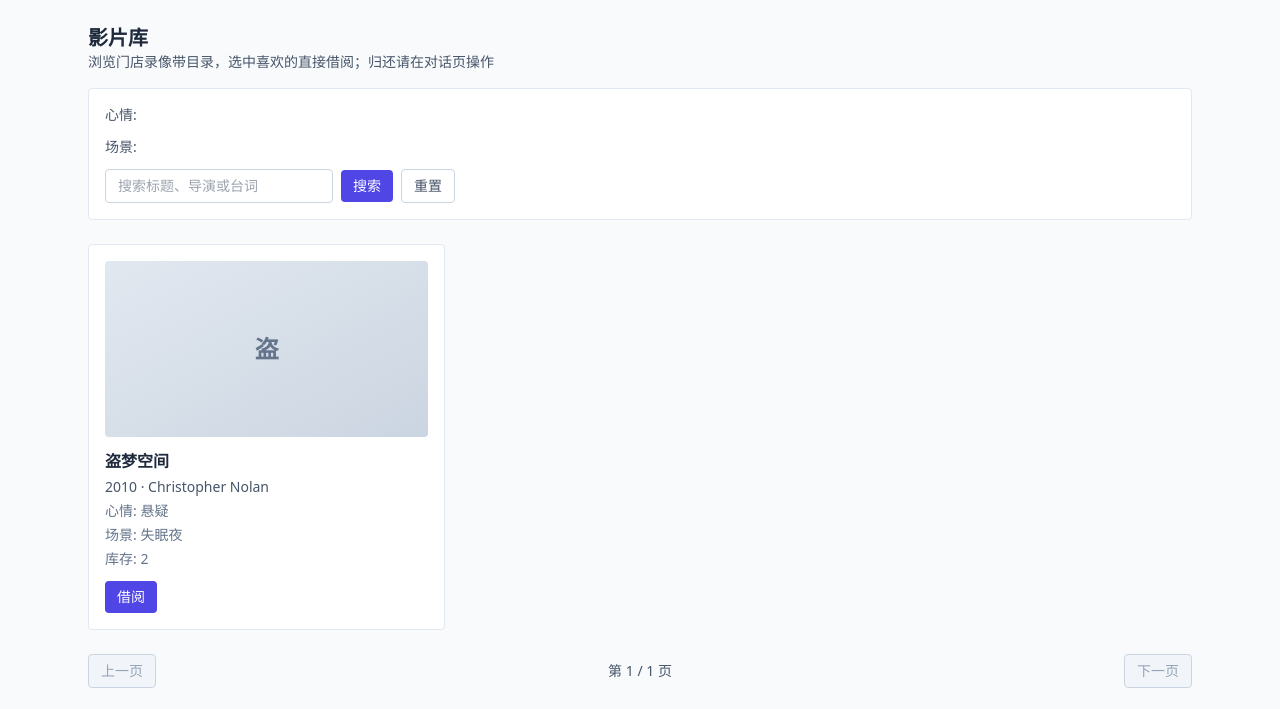
Test case: MovieLibraryPage › marks a card borrowed after a successful REST borrow
Expected: the heading "盗梦空间" is shown, [105,450,169,472]
What coordinates should you click on to do the following:
click the button "借阅"
I would click on:
 (131, 597)
Its box is [105,581,157,613].
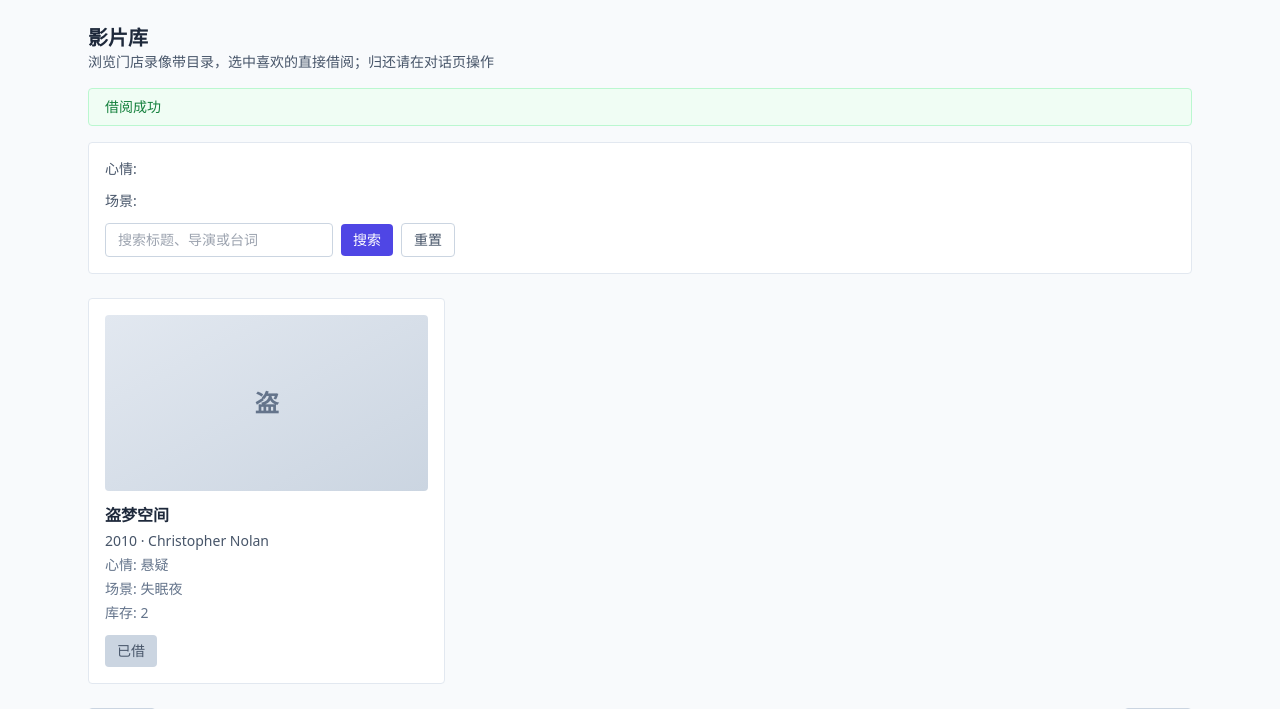
Expected: the text "借阅成功" is shown, [88,88,1192,126]
Expected: the button "已借" is disabled, [105,635,157,667]
